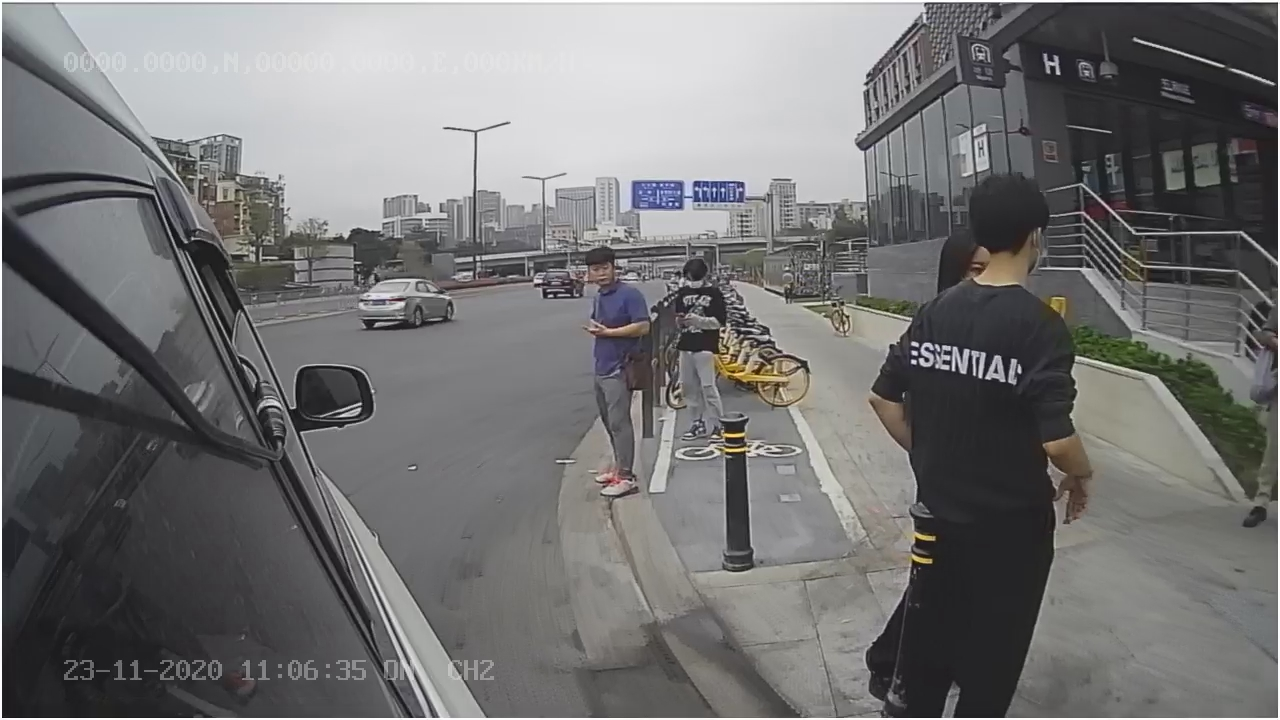person: (571, 241, 655, 508)
